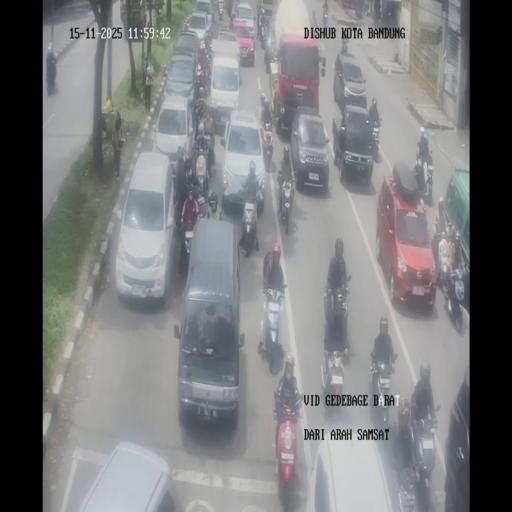3: (121, 0, 147, 41)
car: (174, 221, 244, 424), (115, 151, 174, 301), (310, 417, 401, 511), (376, 169, 436, 308), (62, 440, 176, 510), (221, 107, 265, 215), (289, 108, 331, 194), (332, 106, 375, 184), (153, 94, 193, 176), (208, 44, 244, 132), (333, 49, 367, 116), (170, 31, 200, 69), (232, 2, 256, 41), (186, 10, 210, 43), (218, 28, 238, 42)
truck: (271, 398, 301, 507), (407, 408, 439, 508), (258, 282, 286, 366), (368, 356, 397, 425), (440, 258, 466, 331), (321, 351, 348, 419), (324, 288, 350, 345), (238, 193, 259, 254), (179, 217, 199, 276), (277, 176, 297, 234), (414, 146, 434, 204), (431, 218, 446, 277), (194, 150, 211, 202), (259, 116, 274, 172), (268, 60, 280, 120), (172, 183, 184, 231), (194, 59, 206, 101), (192, 96, 204, 138), (370, 114, 382, 152), (199, 33, 213, 65), (184, 155, 196, 192), (168, 153, 180, 187), (46, 62, 56, 95), (264, 40, 273, 74), (318, 40, 326, 78), (258, 16, 267, 48), (196, 193, 207, 218), (322, 4, 328, 28), (362, 0, 370, 17), (218, 0, 224, 20), (310, 9, 316, 28), (211, 0, 219, 14), (230, 2, 236, 20)
